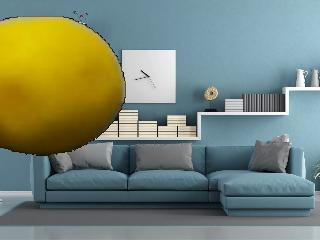lemon: (0, 16, 125, 157)
